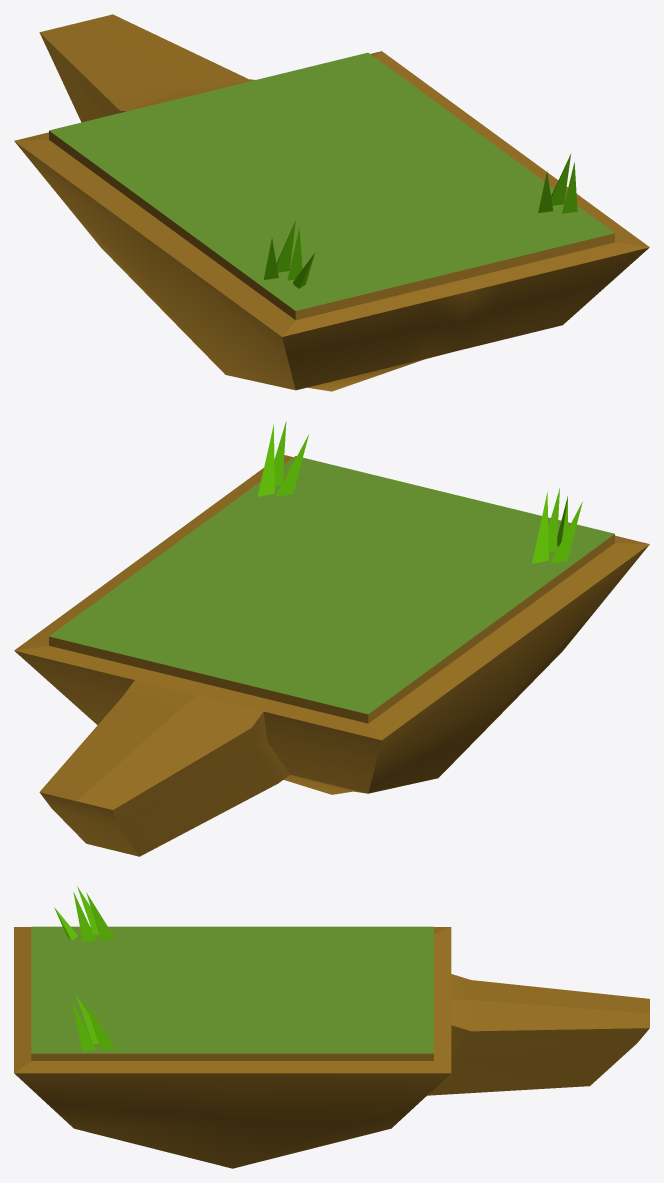
Rendered from WEIRDPLATOFRM.fbx.
3 renders of one model, top to bottom at view 1: azimuth 30°, elevation 25°; view 2: azimuth 150°, elevation 25°; view 3: azimuth 270°, elevation 25°, orthographic. The views are drawn at different scales.
Parts seen in each view (by area): view 1: Platform5; view 2: Platform5; view 3: Platform5.
Part boxes in pixels (x1,y1,x2,y2): Platform5: (14, 14, 649, 391); Platform5: (14, 421, 649, 856); Platform5: (14, 886, 649, 1168).
Bounding box in the file's own units: 37.19 × 25.96 × 68.26.
